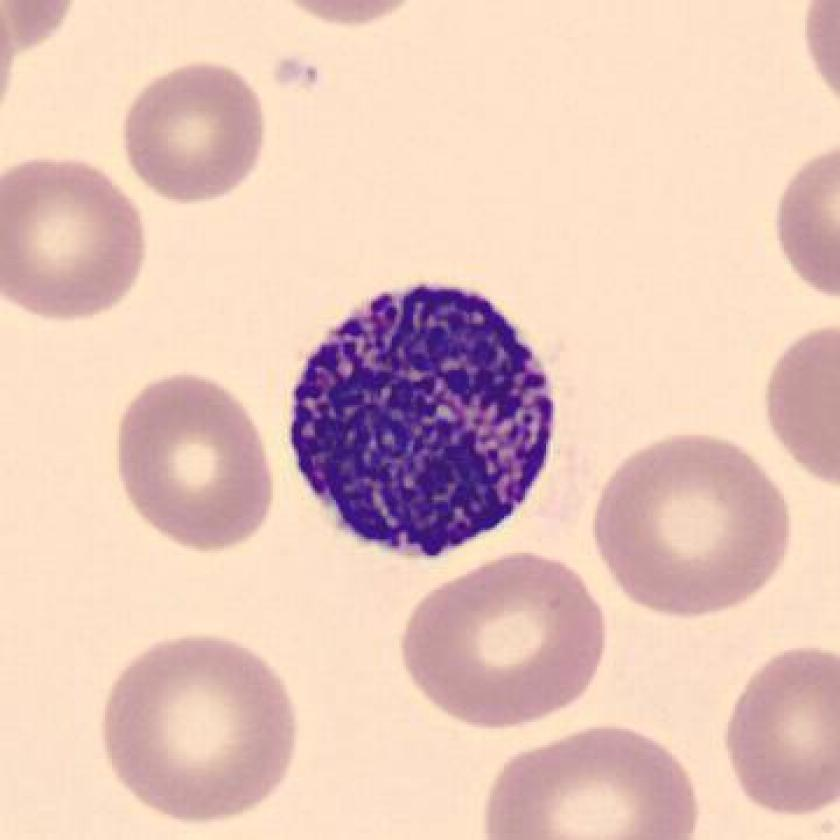basophil: (281, 267, 566, 570)
